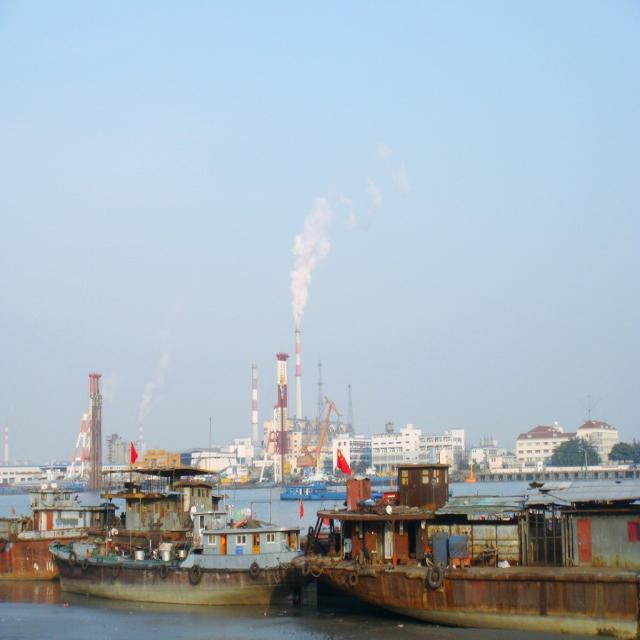fishing boat: (299, 435, 631, 640), (54, 490, 264, 620), (0, 486, 123, 574)
